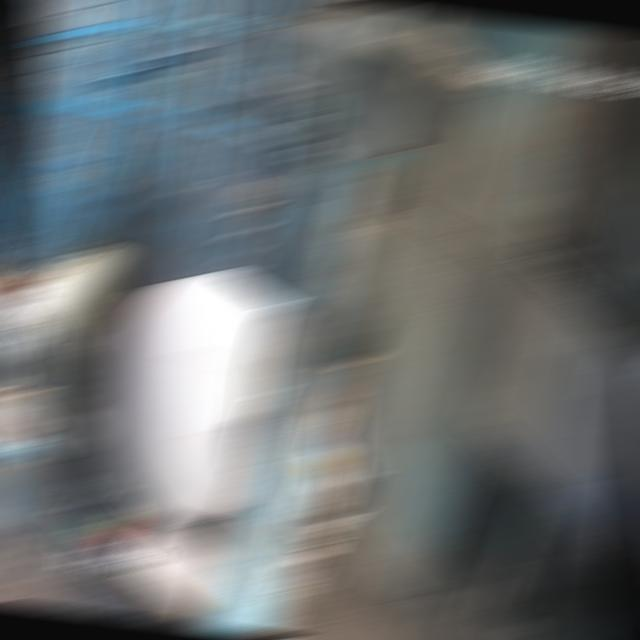cement_mixer_truck: (0, 234, 394, 638)
swing_chute: (292, 120, 423, 351)
